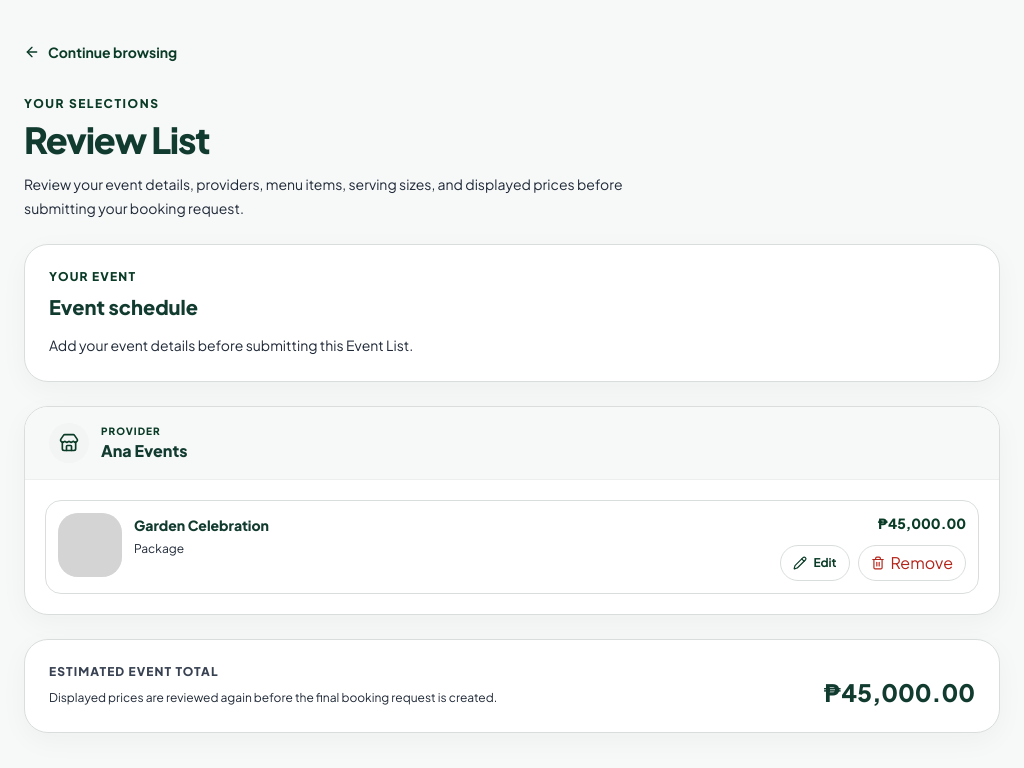
Test case: customer event list planning UI › reviews saved packages and removes them from the list
Expected: the heading "Review List" is shown, 24,117 -> 209,162
Click the button with aria-label "Remove Garden Celebration from Event List" at (912, 563), box 858,545 -> 966,581
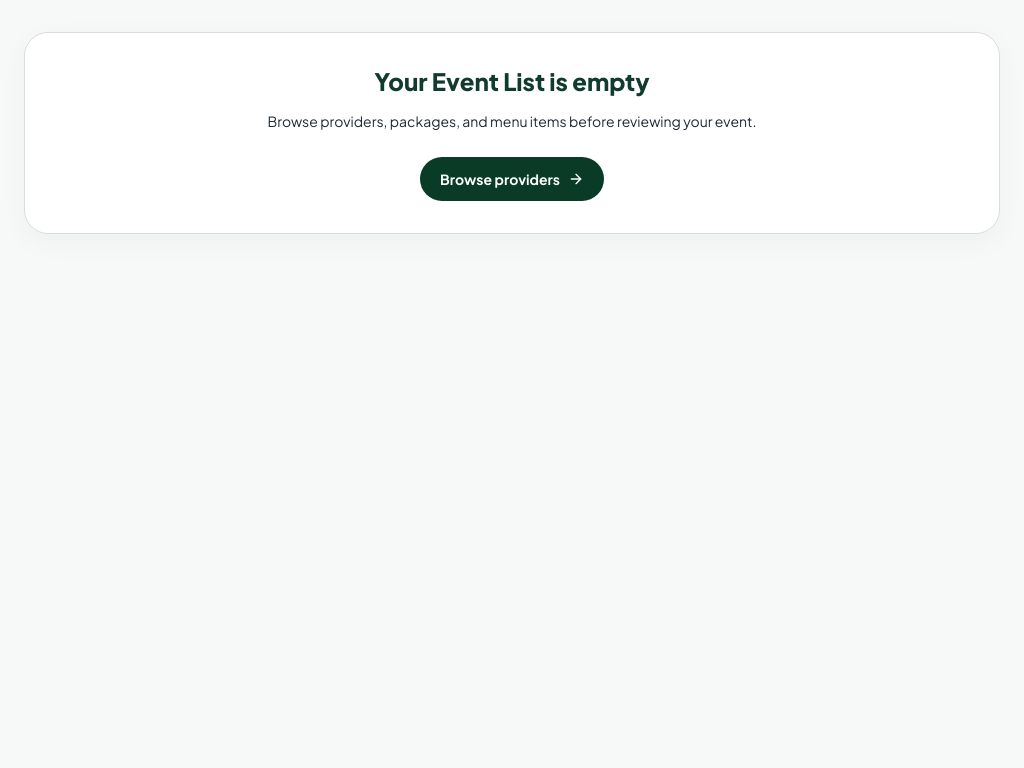
Expected: the heading "Your Event List is empty" is shown, 374,66 -> 650,96
